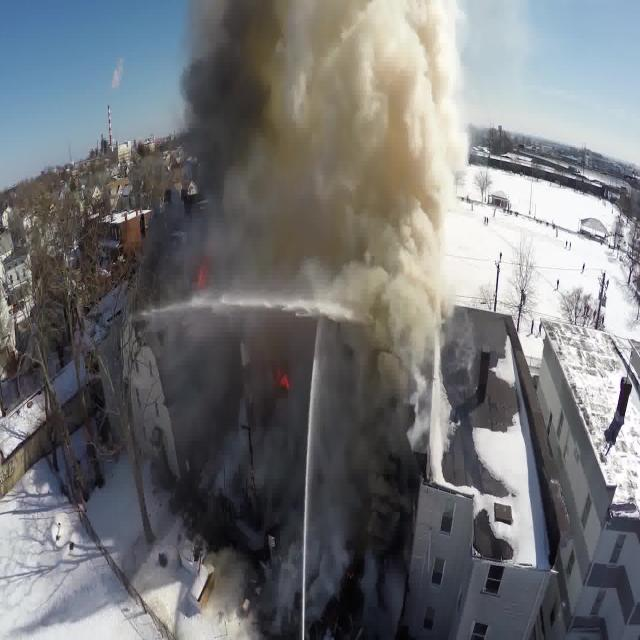Fire: (194, 253, 216, 301), (272, 357, 294, 396)
Smoke: (189, 3, 440, 615)
